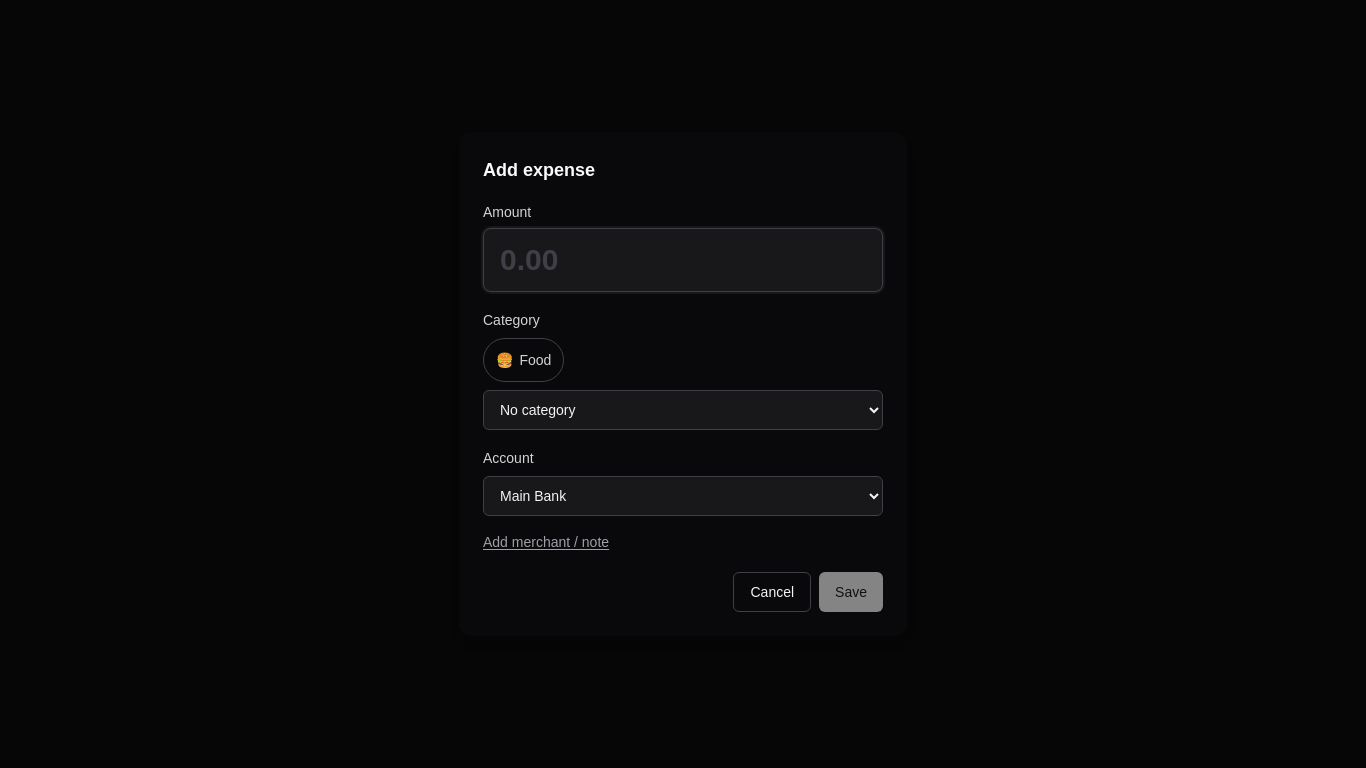
Scenario: AddExpenseSheet - fast entry › shows a validation error and preserves entered values when the amount is invalid
Expected: the button "🍔 Food" is shown, [483, 338, 564, 382]
Step 1. Type "0" into the field labelled "Amount" → (683, 260), box [483, 228, 883, 292]
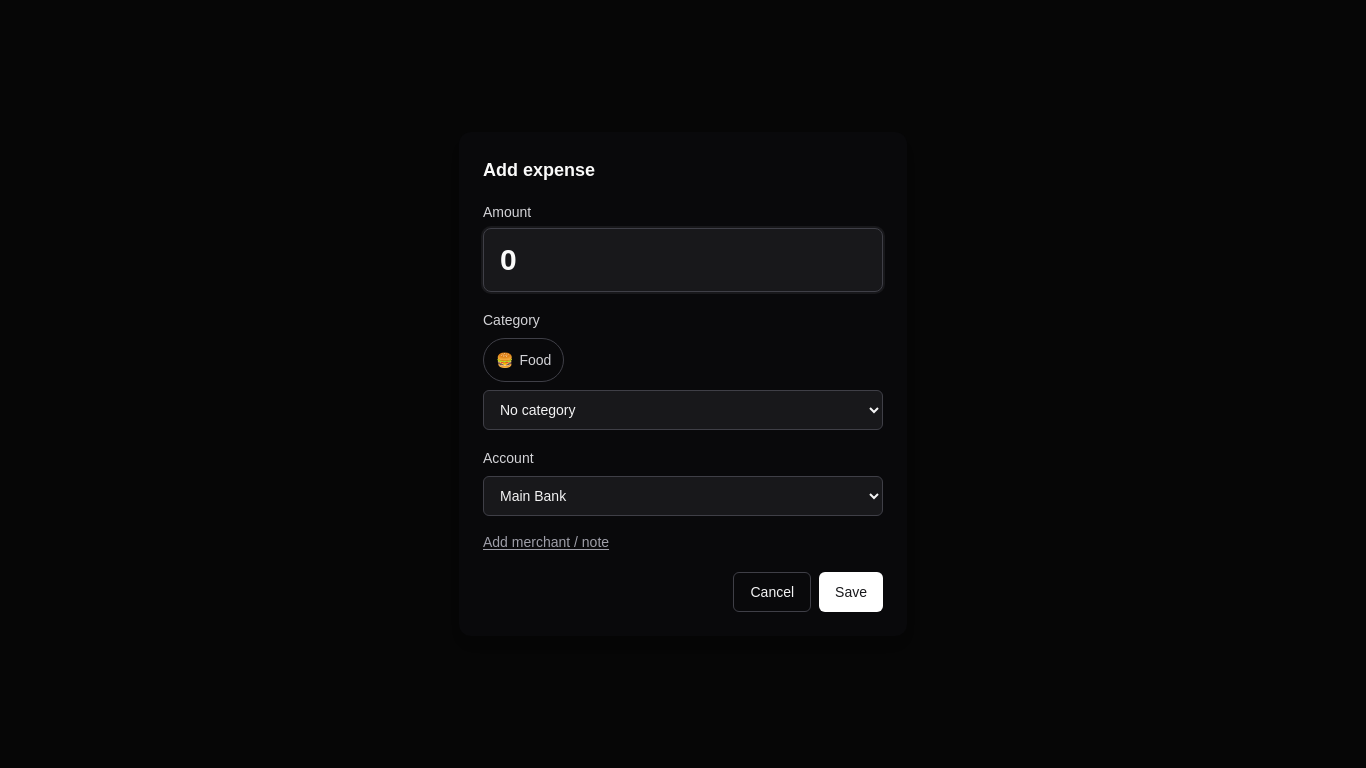
Step 2. Click the button "Save" → (851, 592), box [819, 572, 883, 612]
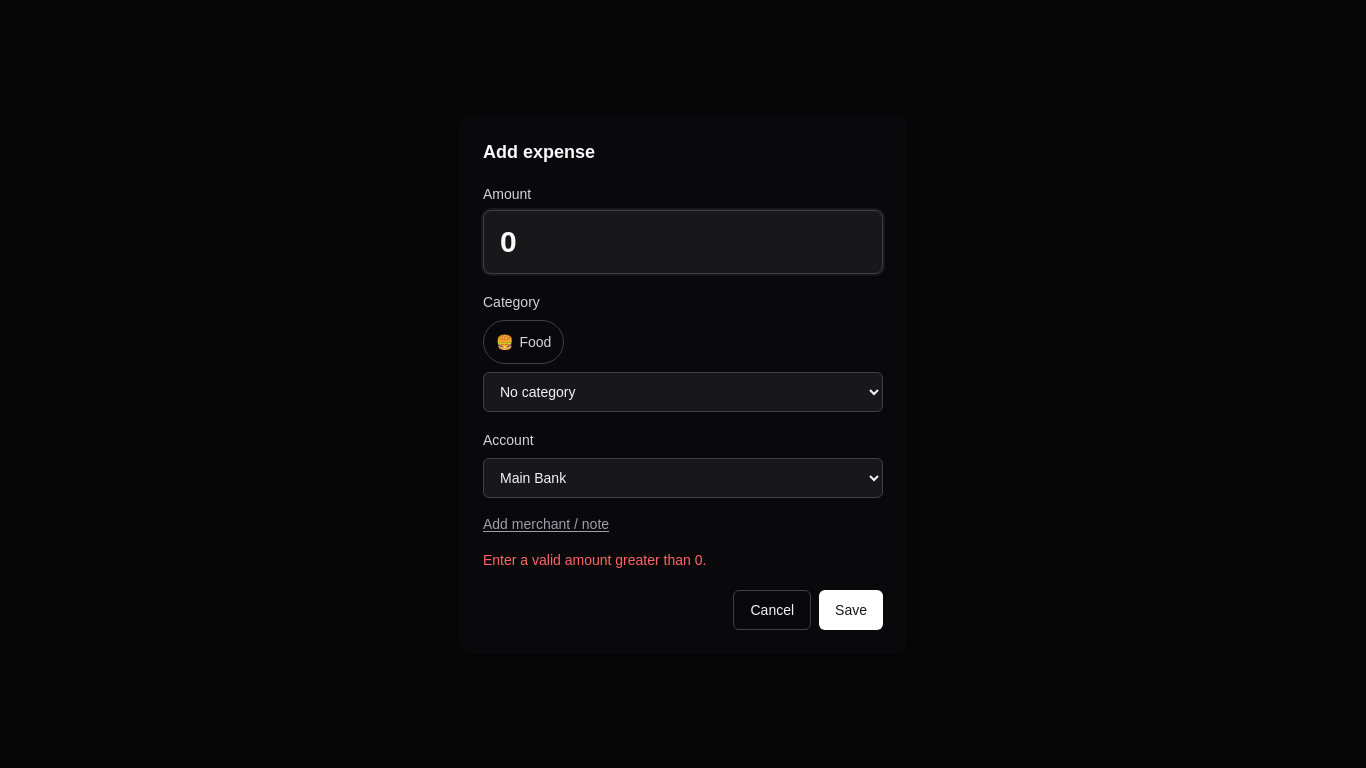
Result: the message shows "valid amount" at [483, 552, 706, 568]
